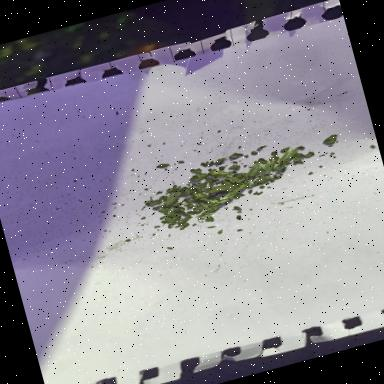pbw: (200, 195, 234, 212), (194, 204, 224, 221), (276, 148, 303, 166), (243, 160, 266, 180), (223, 182, 251, 198), (208, 164, 232, 182), (188, 190, 212, 208), (160, 192, 186, 208), (260, 158, 280, 176)
